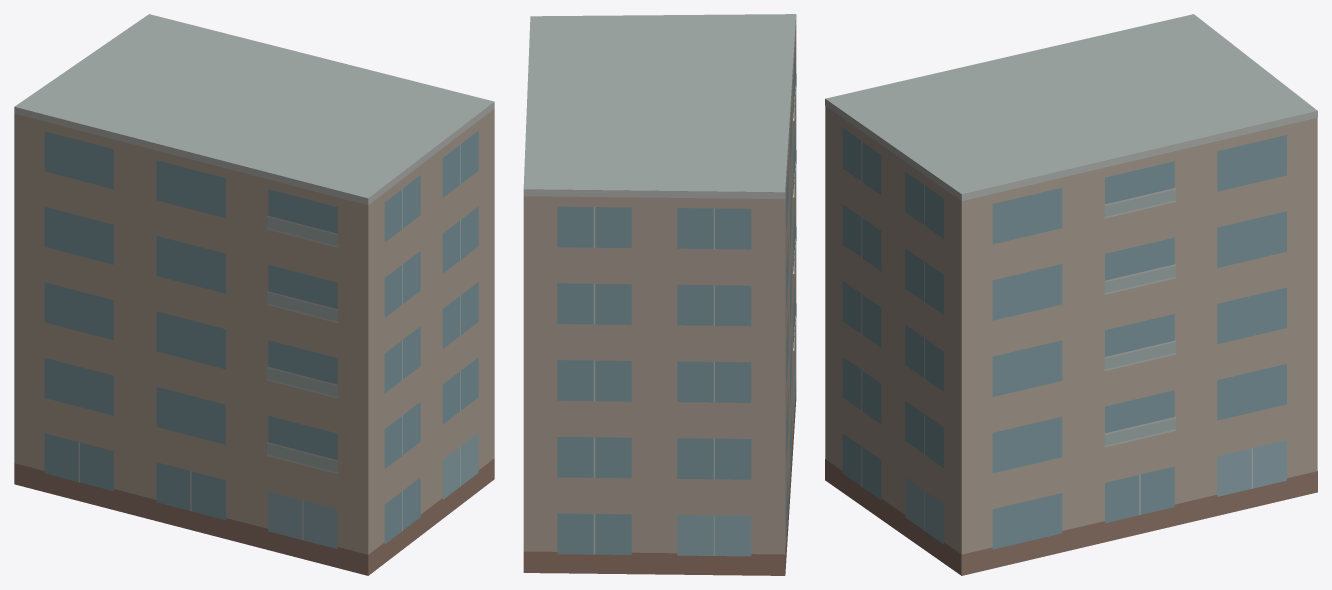
Rendered from survey-upis-32538481.glb.
3 renders of one model, left to right at view 1: azimuth 30°, elevation 25°; view 2: azimuth 150°, elevation 25°; view 3: azimuth 270°, elevation 25°, orthographic.
Parts seen in each view (by area): view 1: survey-upis-32538481.tmp; view 2: survey-upis-32538481.tmp; view 3: survey-upis-32538481.tmp.
Part boxes in pixels (x1,y1,x2,y2): survey-upis-32538481.tmp: (14,14,494,575); survey-upis-32538481.tmp: (523,14,796,575); survey-upis-32538481.tmp: (825,14,1317,575).
Bounding box in the file's own units: 13.69 × 13.5 × 15.81.
